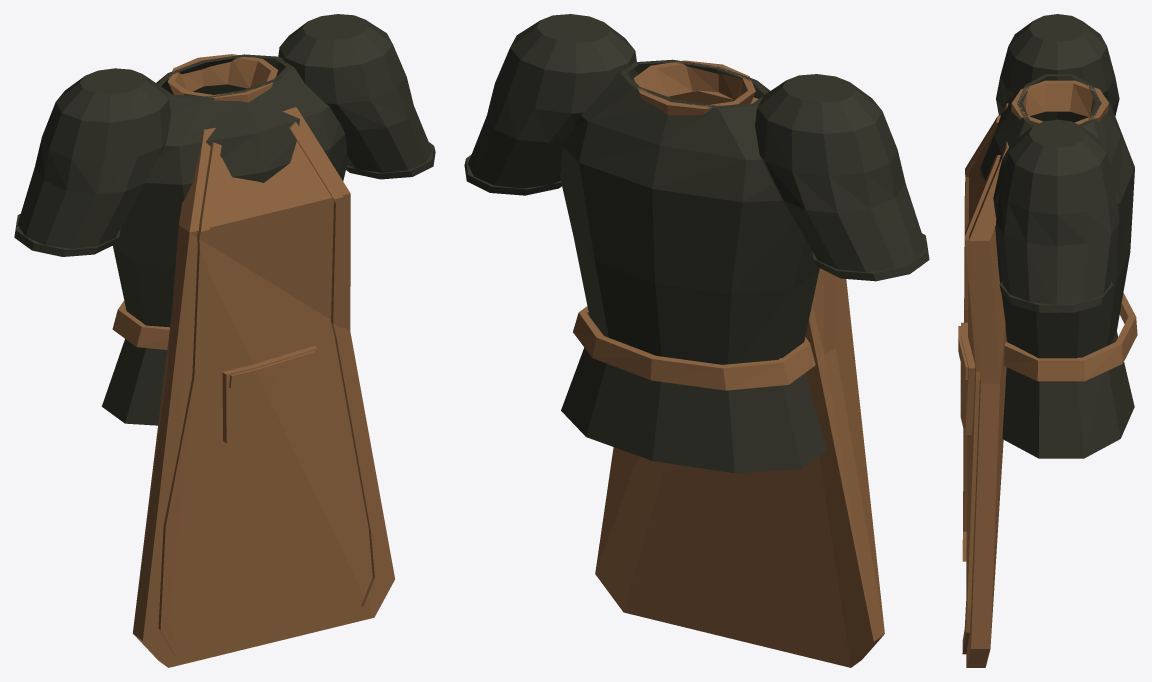
File: leather_apron-female.glb
The picture shows the model from 3 angles, left to right: view 1: azimuth 30°, elevation 25°; view 2: azimuth 150°, elevation 25°; view 3: azimuth 270°, elevation 25°; orthographic projection. The views are drawn at different scales.
Visible parts, largest first — view 1: Leather apron bib and skirt, Apron cloth undershirt, workshirt upper sleeve -1, workshirt upper sleeve 1, Apron stitched border -1, Apron working pocket, Apron stitched border 1, Apron continuous neck loop, Apron waist tie, Pocket turned lip, Sleeve cuff binding -1, Sleeve cuff binding 1; view 2: Apron cloth undershirt, Leather apron bib and skirt, workshirt upper sleeve -1, workshirt upper sleeve 1, Apron waist tie, Apron continuous neck loop, Sleeve cuff binding -1, Sleeve cuff binding 1; view 3: Apron cloth undershirt, workshirt upper sleeve 1, Leather apron bib and skirt, workshirt upper sleeve -1, Apron waist tie, Apron continuous neck loop, Apron stitched border 1, Apron stitched border -1, Apron working pocket, Sleeve cuff binding 1.
Part boxes in pixels (<box>): Leather apron bib and skirt: <box>132,107,394,667</box>; Apron cloth undershirt: <box>102,54,347,425</box>; workshirt upper sleeve -1: <box>17,68,170,248</box>; workshirt upper sleeve 1: <box>276,14,432,174</box>; Apron stitched border -1: <box>158,142,221,656</box>; Apron working pocket: <box>222,345,319,443</box>; Apron stitched border 1: <box>289,121,383,608</box>; Apron continuous neck loop: <box>168,54,278,102</box>; Apron waist tie: <box>112,301,169,349</box>; Pocket turned lip: <box>229,351,316,388</box>; Sleeve cuff binding -1: <box>14,214,120,256</box>; Sleeve cuff binding 1: <box>346,142,435,179</box>; Apron cloth undershirt: <box>559,59,827,473</box>; Leather apron bib and skirt: <box>595,90,884,667</box>; workshirt upper sleeve -1: <box>755,74,925,272</box>; workshirt upper sleeve 1: <box>468,14,638,190</box>; Apron waist tie: <box>573,306,815,390</box>; Apron continuous neck loop: <box>633,60,755,115</box>; Sleeve cuff binding -1: <box>812,233,929,281</box>; Sleeve cuff binding 1: <box>464,154,561,195</box>; Apron cloth undershirt: <box>980,74,1134,458</box>; workshirt upper sleeve 1: <box>996,119,1119,312</box>; Leather apron bib and skirt: <box>966,103,1008,667</box>; workshirt upper sleeve -1: <box>996,14,1119,122</box>; Apron waist tie: <box>1003,293,1137,381</box>; Apron continuous neck loop: <box>1011,80,1108,124</box>; Apron stitched border 1: <box>962,155,1000,654</box>; Apron stitched border -1: <box>962,115,1000,561</box>; Apron working pocket: <box>960,322,975,434</box>; Sleeve cuff binding 1: <box>999,281,1113,312</box>.
Bounding box in the file's own units: 3.03 × 3.97 × 1.2.
